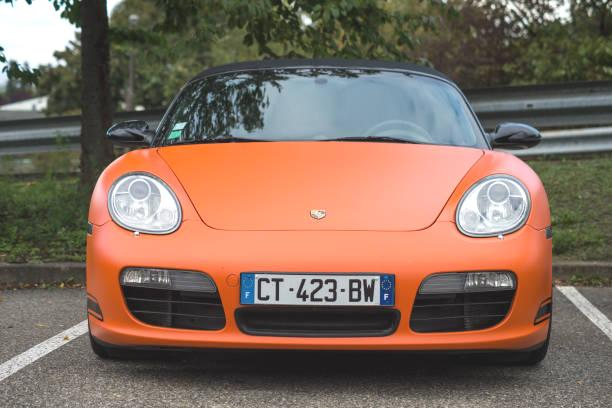porsche: (307, 207, 334, 223)
